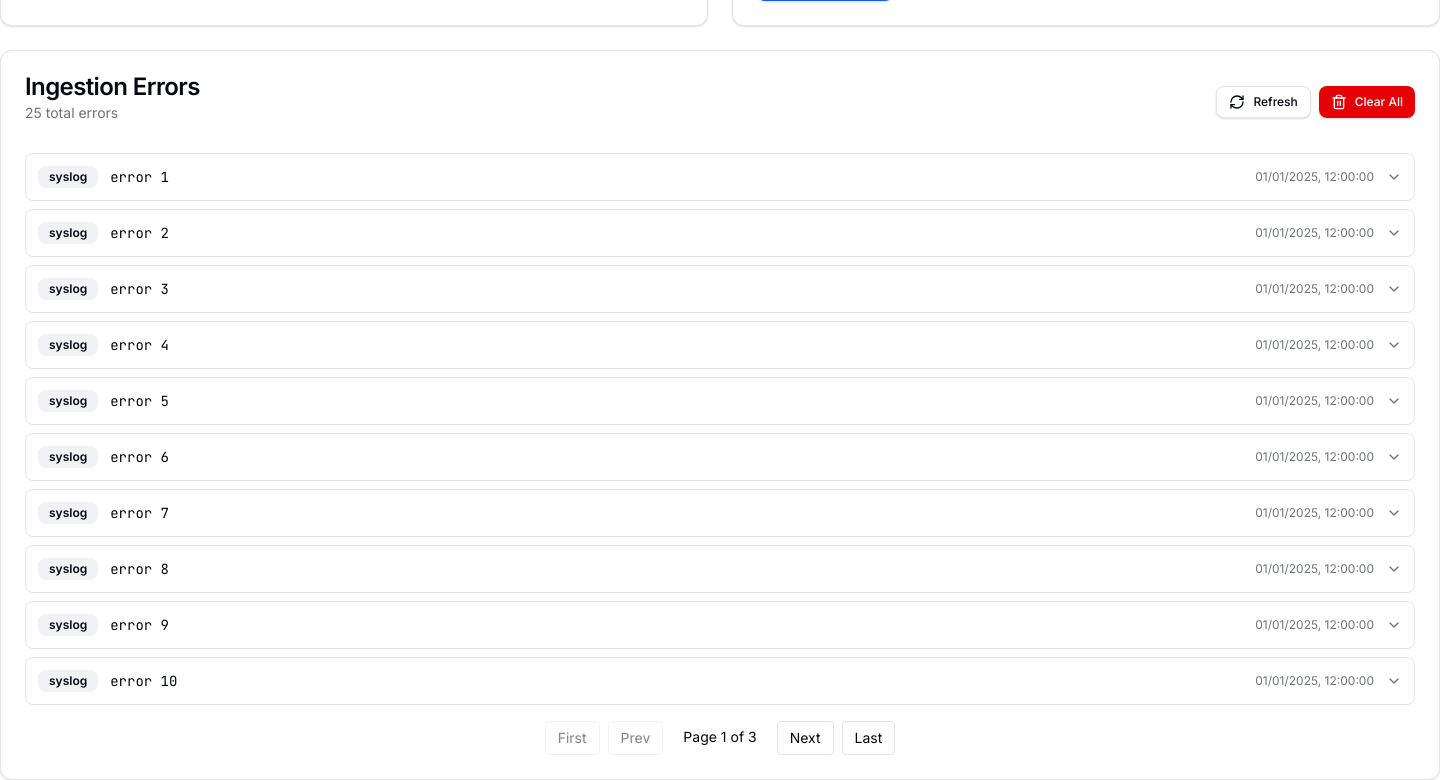
it: AdminSettings - extended coverage › pagination First button loads first page
The width and height of the screenshot is (1440, 780).
(page scrolled)
Check: the text "Page 1 of 3" is shown, box [683,728,757,745]
Go to next page first
What coordinates should you click on to do the following:
click the button "Next"
I would click on:
 (805, 738)
Its box is [777,721,834,755].
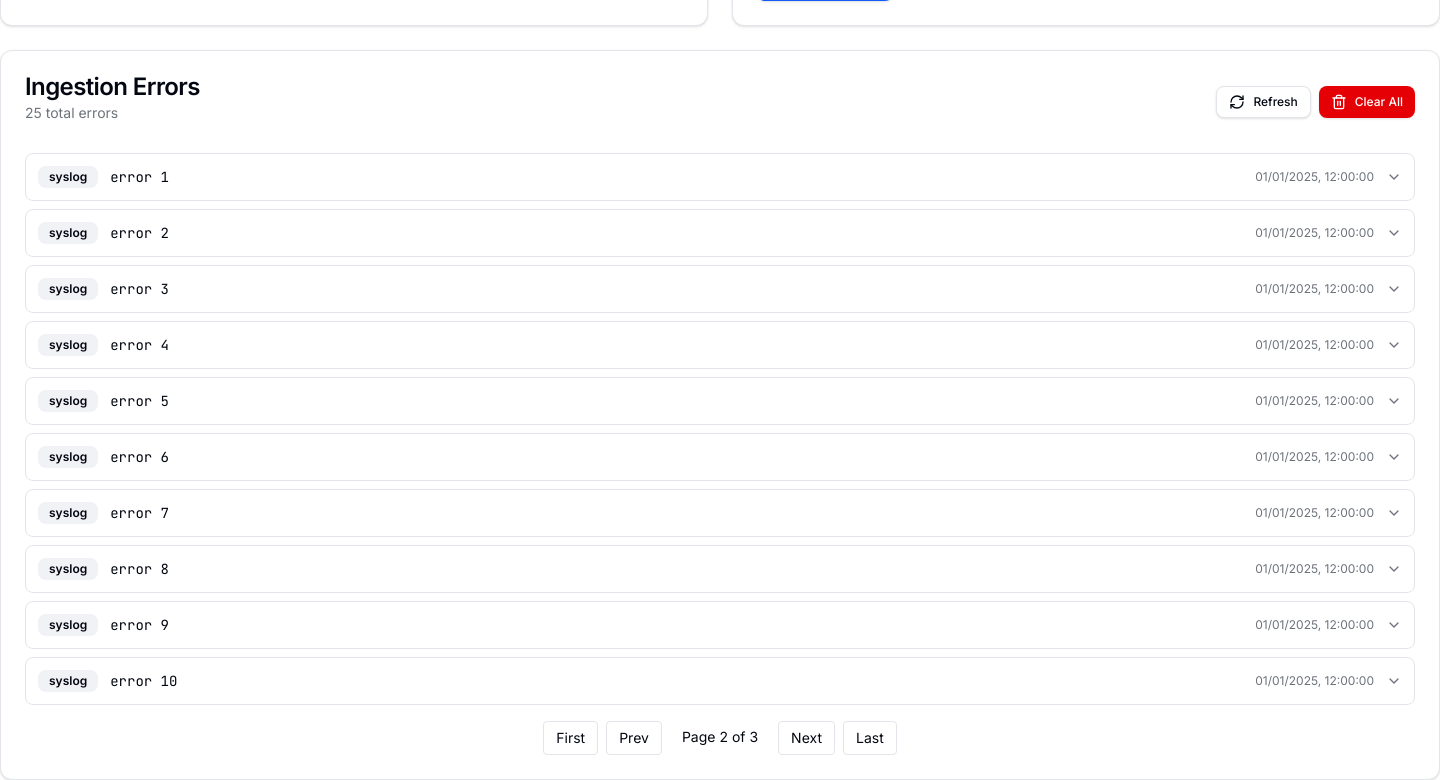
Check: the text "Page 2 of 3" is shown, box [682,728,758,745]
Click First
What coordinates should you click on to do the following:
click the button "First"
I would click on:
 (571, 738)
Its box is [543,721,598,755].
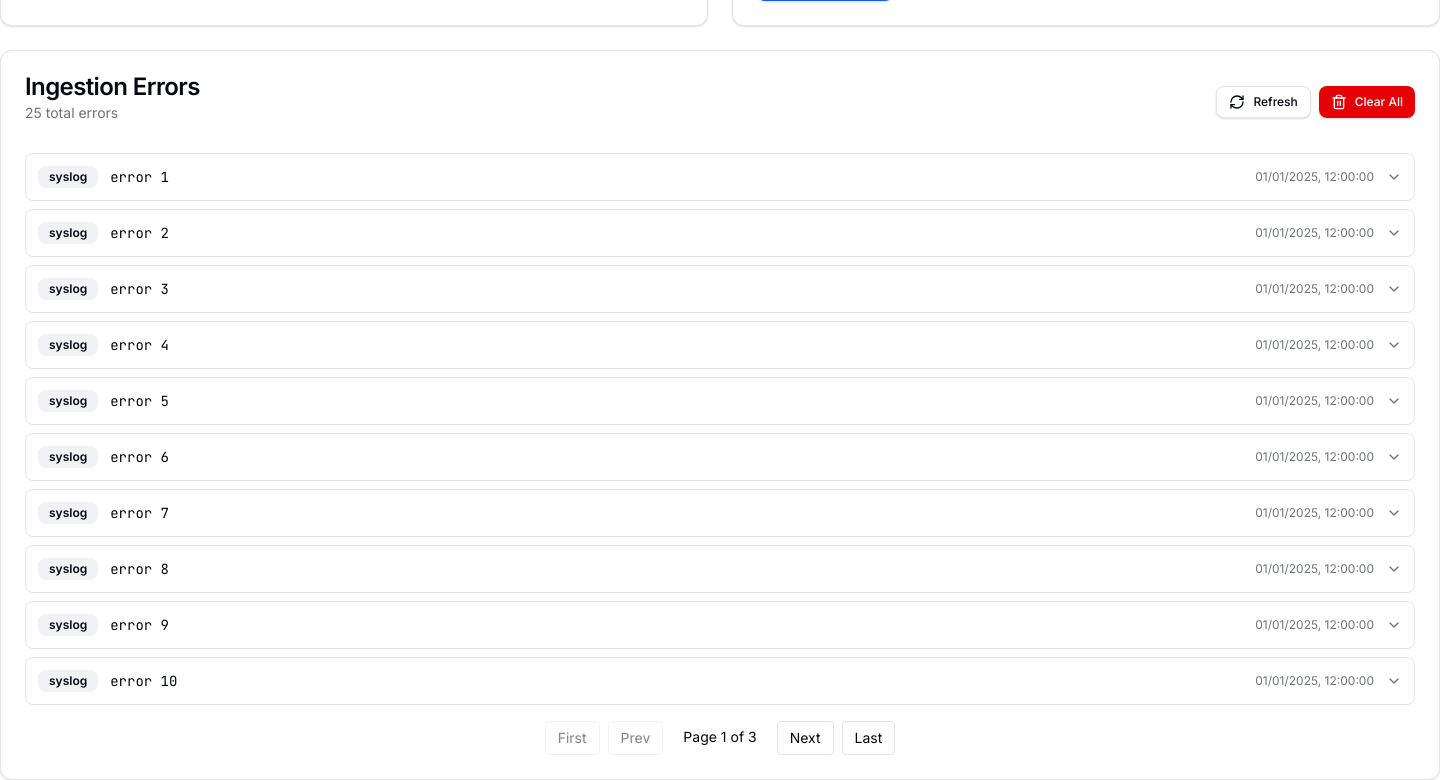
Check: the text "Page 1 of 3" is shown, box [683,728,757,745]
